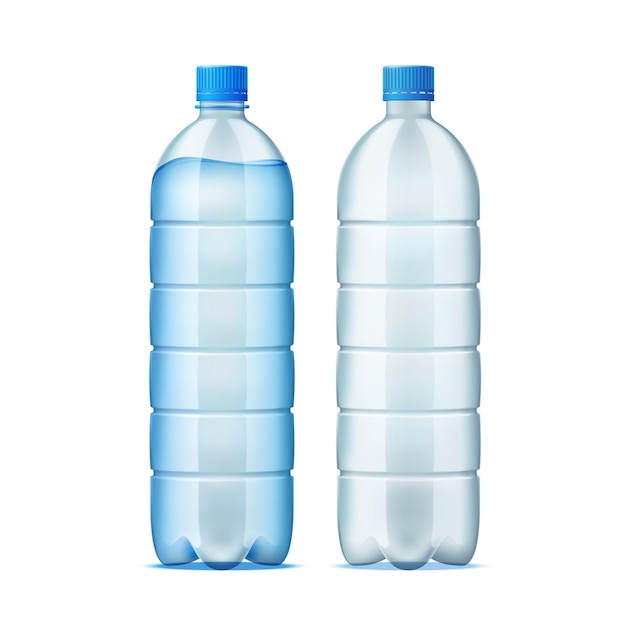plastic_bottle: (137, 61, 306, 578), (328, 56, 490, 575)
